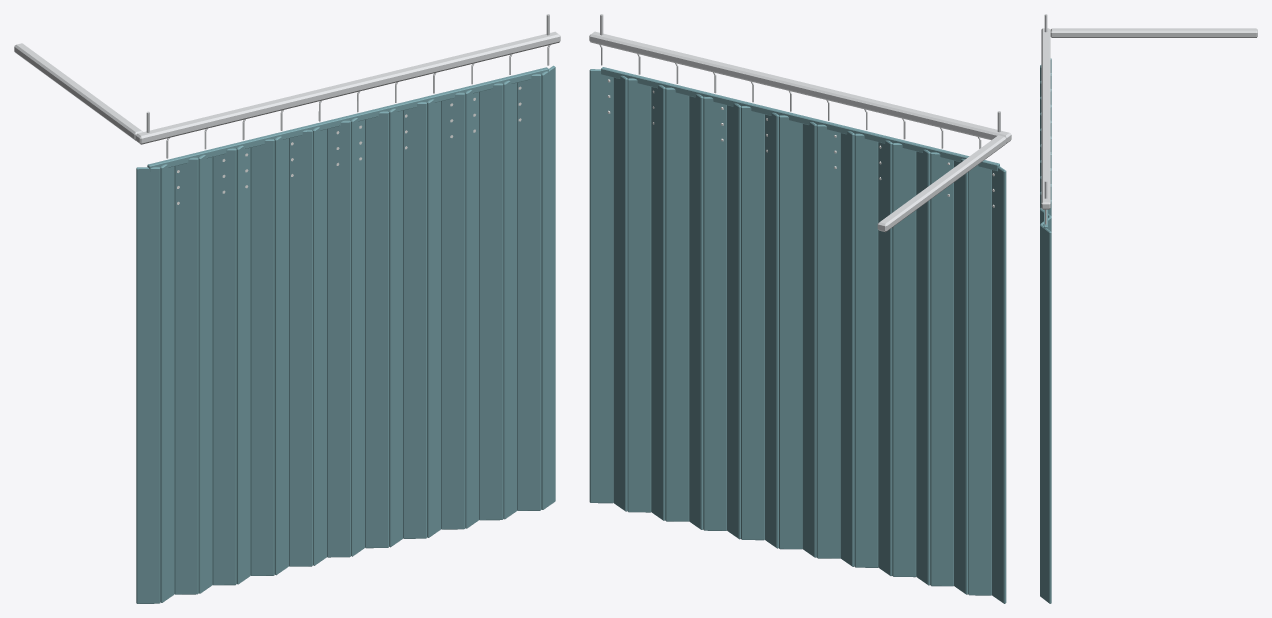
The model's file is clinic-and-veterinary-practice-cubicle-curtain-track-a05a94a2__16744.glb.
3 views of the same model, side by side, from view 1: azimuth 30°, elevation 25°; view 2: azimuth 150°, elevation 25°; view 3: azimuth 270°, elevation 25° (orthographic). The views are drawn at different scales.
Parts seen in each view (by area): view 1: cubicle-curtain-track; view 2: cubicle-curtain-track; view 3: cubicle-curtain-track.
Part boxes in pixels (<box>): cubicle-curtain-track: <box>14,14,560,603</box>; cubicle-curtain-track: <box>589,14,1011,603</box>; cubicle-curtain-track: <box>1040,14,1257,603</box>.
Size of the model in its own units: 2 by 2.23 by 1.05.
